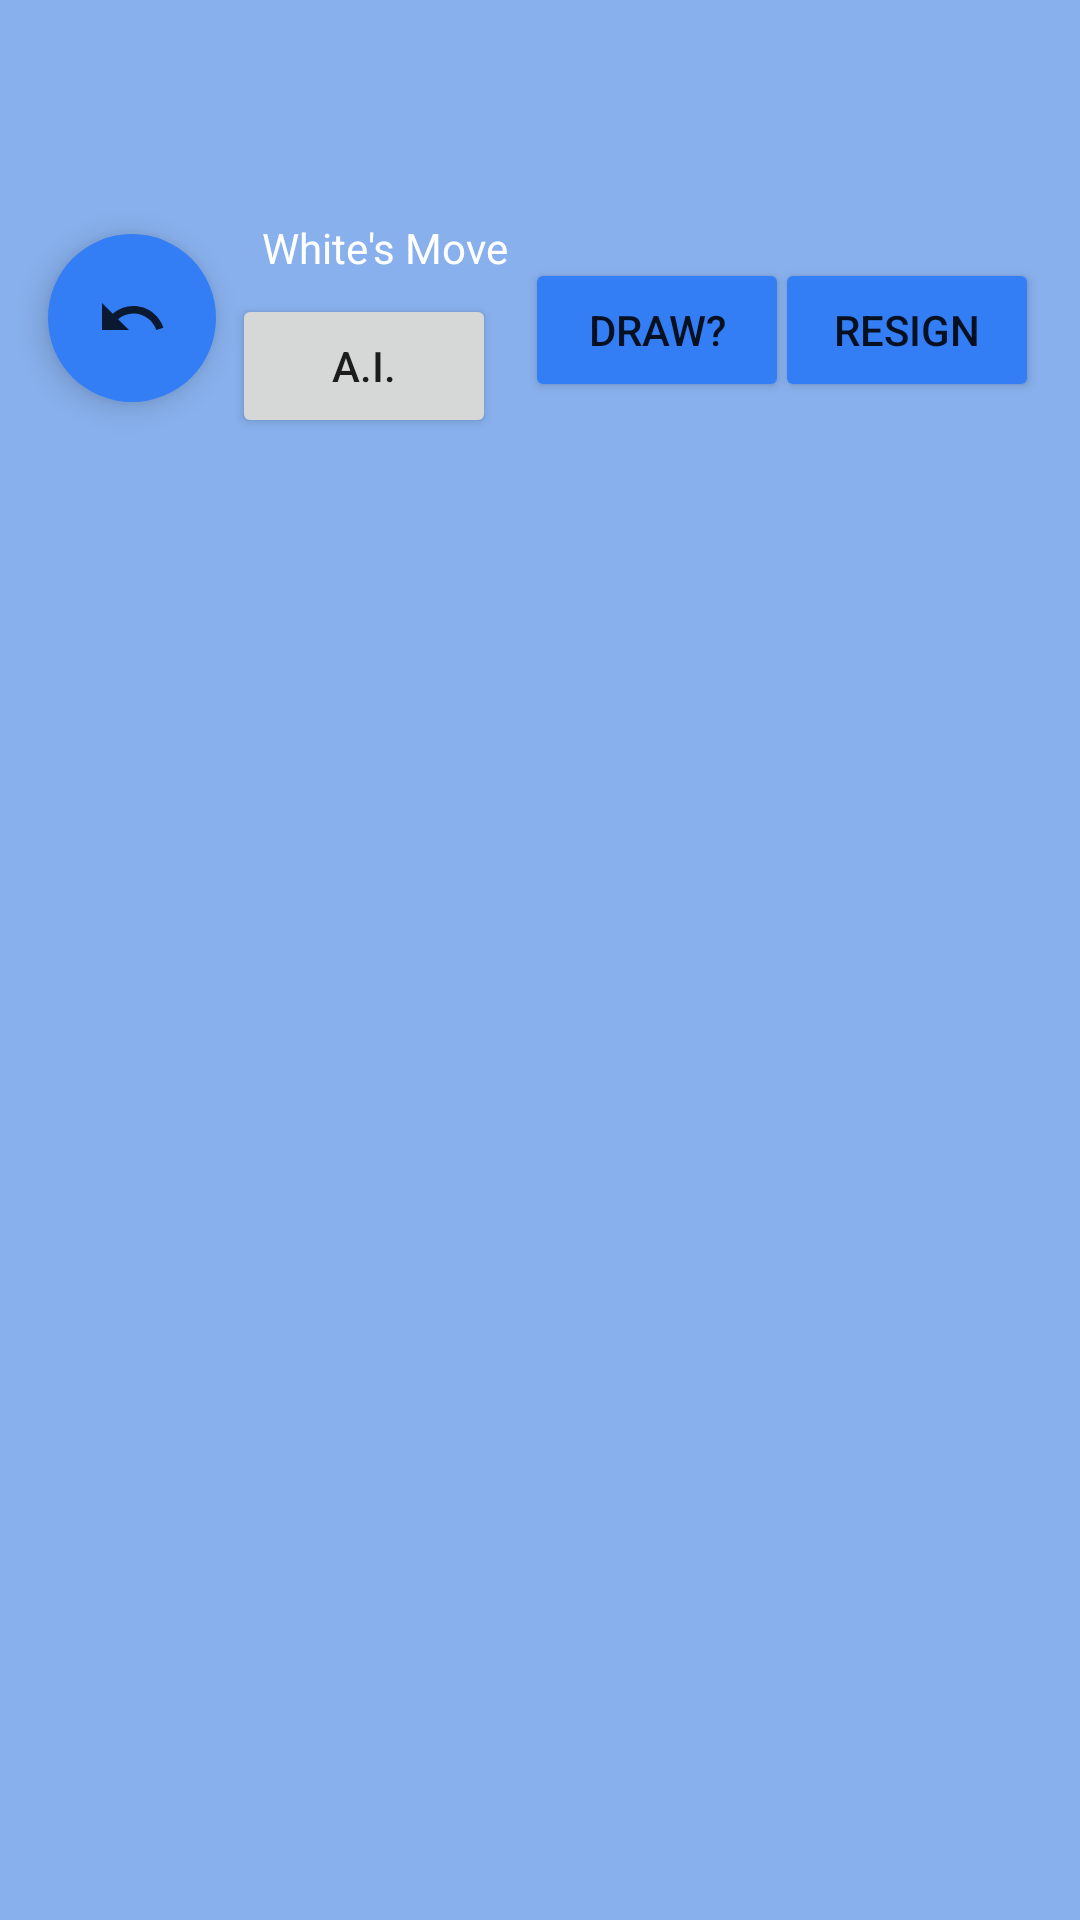

Icon bounding boxes for this 1080*1920 phone screenshot, format (x1, y1, x2, y2):
undo: (48, 234, 216, 402)
